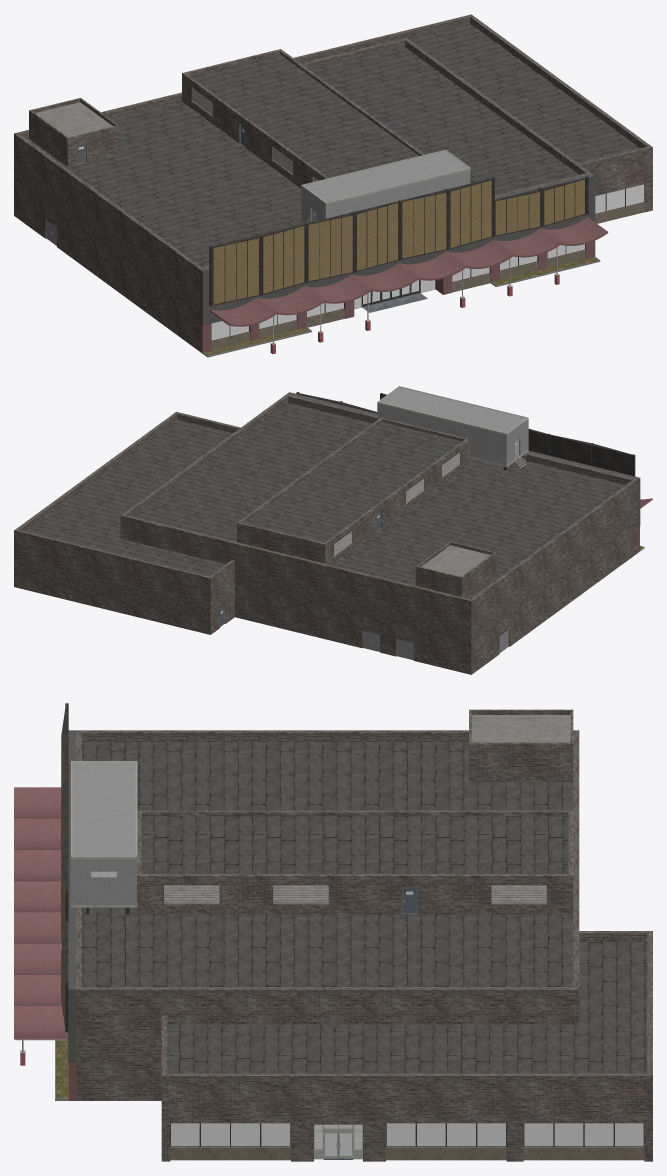
File: Building_37.fbx
The picture shows the model from 3 angles, top to bottom: view 1: azimuth 30°, elevation 25°; view 2: azimuth 150°, elevation 25°; view 3: azimuth 270°, elevation 25°; orthographic projection. The views are drawn at different scales.
Visible parts, largest first — view 1: Building_37_LOD0; view 2: Building_37_LOD0; view 3: Building_37_LOD0.
Part boxes in pixels (bbox=[...]): Building_37_LOD0: bbox=[14, 14, 652, 357]; Building_37_LOD0: bbox=[14, 386, 652, 674]; Building_37_LOD0: bbox=[14, 703, 652, 1161].
Size of what is drawn, in the model's own units: 6223 by 1475 by 5251.
